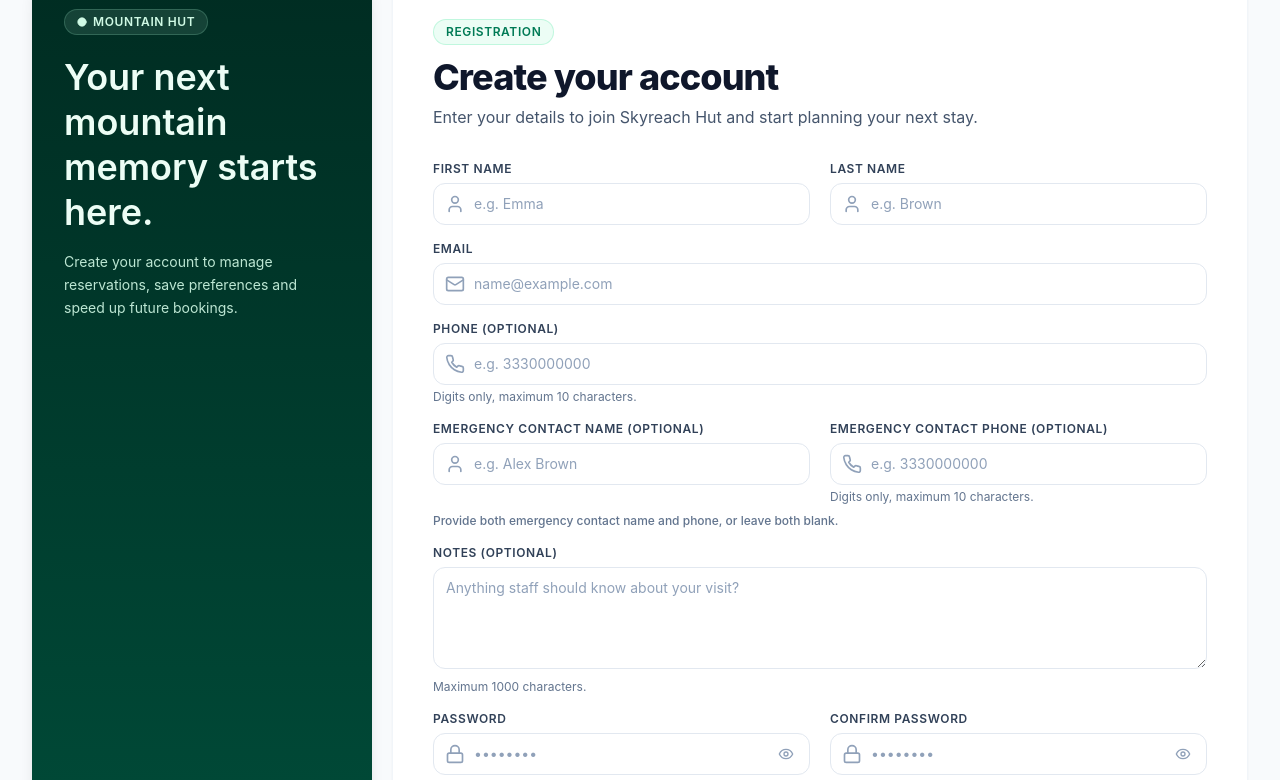
Test: RegisterPage › sends only the required fields when the optional ones are empty
Type "Anna" into the field labelled "First name" at point(622, 204), box [433, 183, 810, 225]
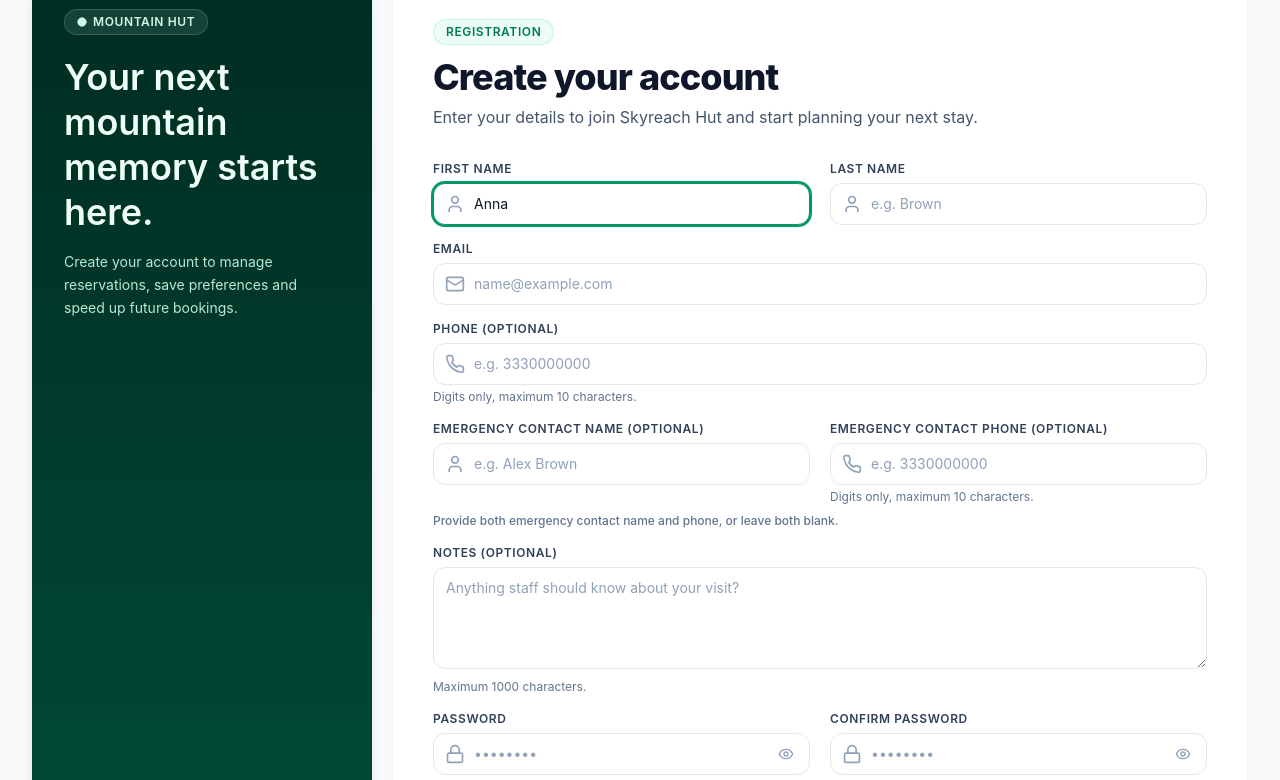
Type "Neri" into the field labelled "Last name" at point(1018, 204), box [830, 183, 1207, 225]
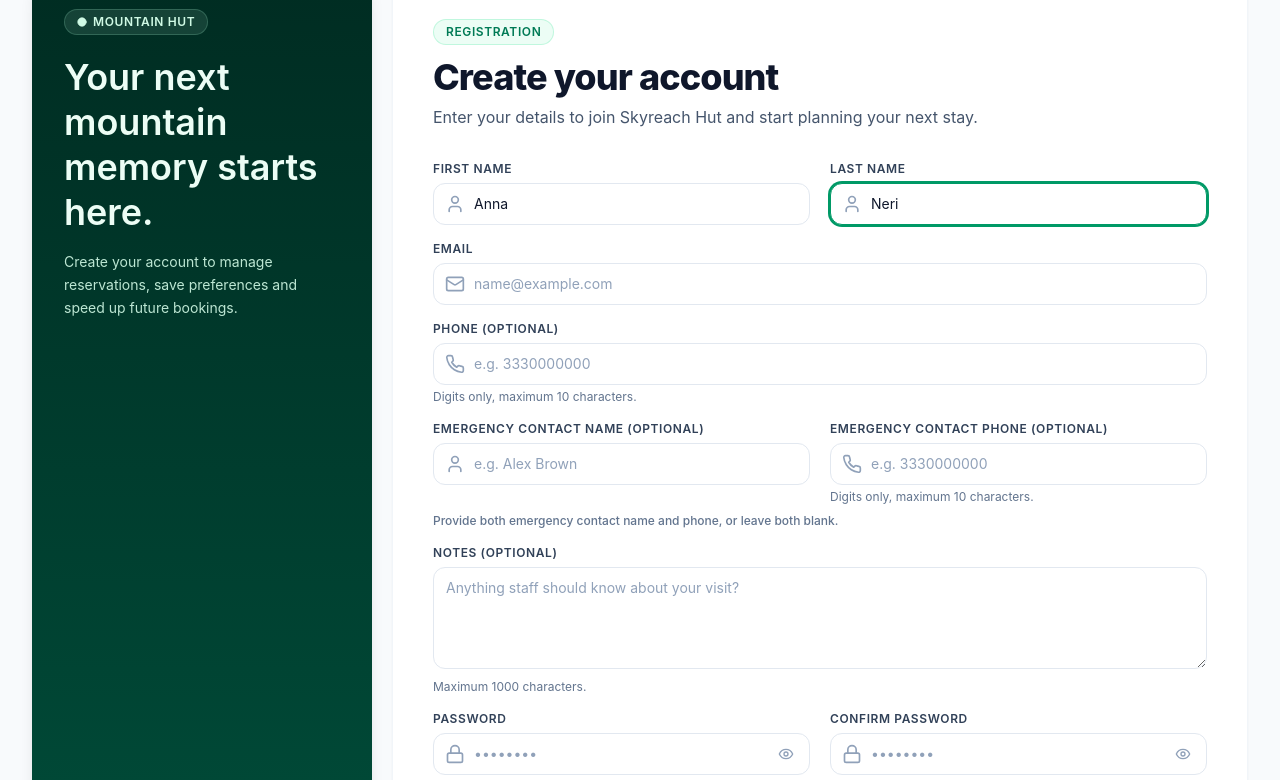
Type "anna@example.com" into the field labelled "Email" at point(820, 284), box [433, 263, 1207, 305]
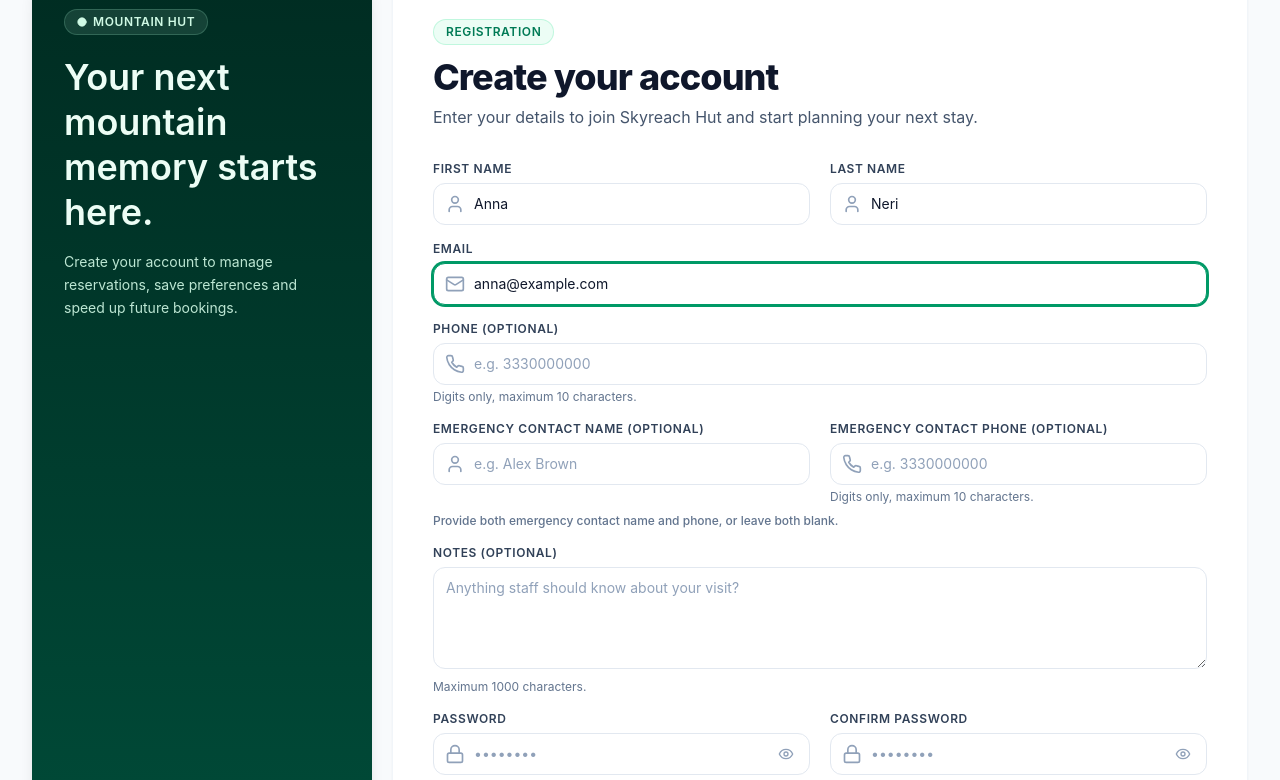
Type "Hiker123" into the password field labelled "Password" at point(622, 754), box [433, 733, 810, 775]
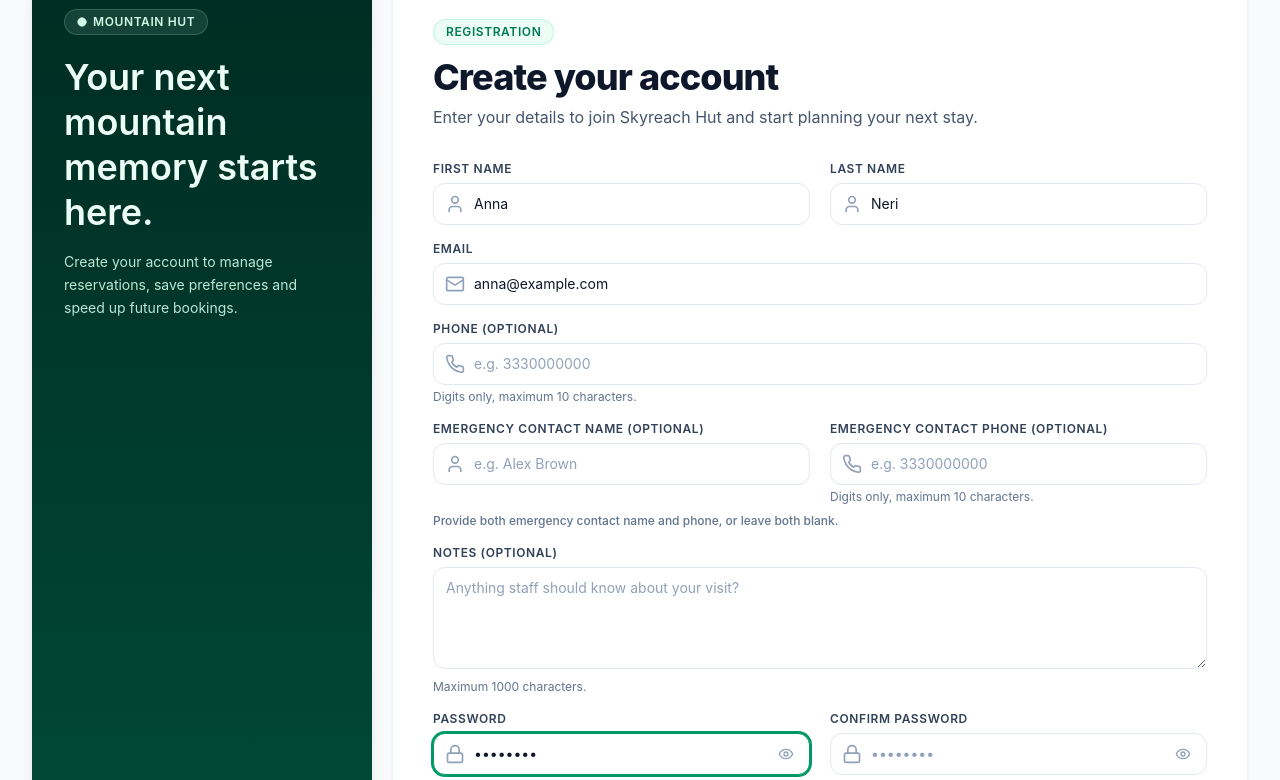
Type "Hiker123" into the password field labelled "Confirm password" at point(1018, 754), box [830, 733, 1207, 775]
(page scrolled)
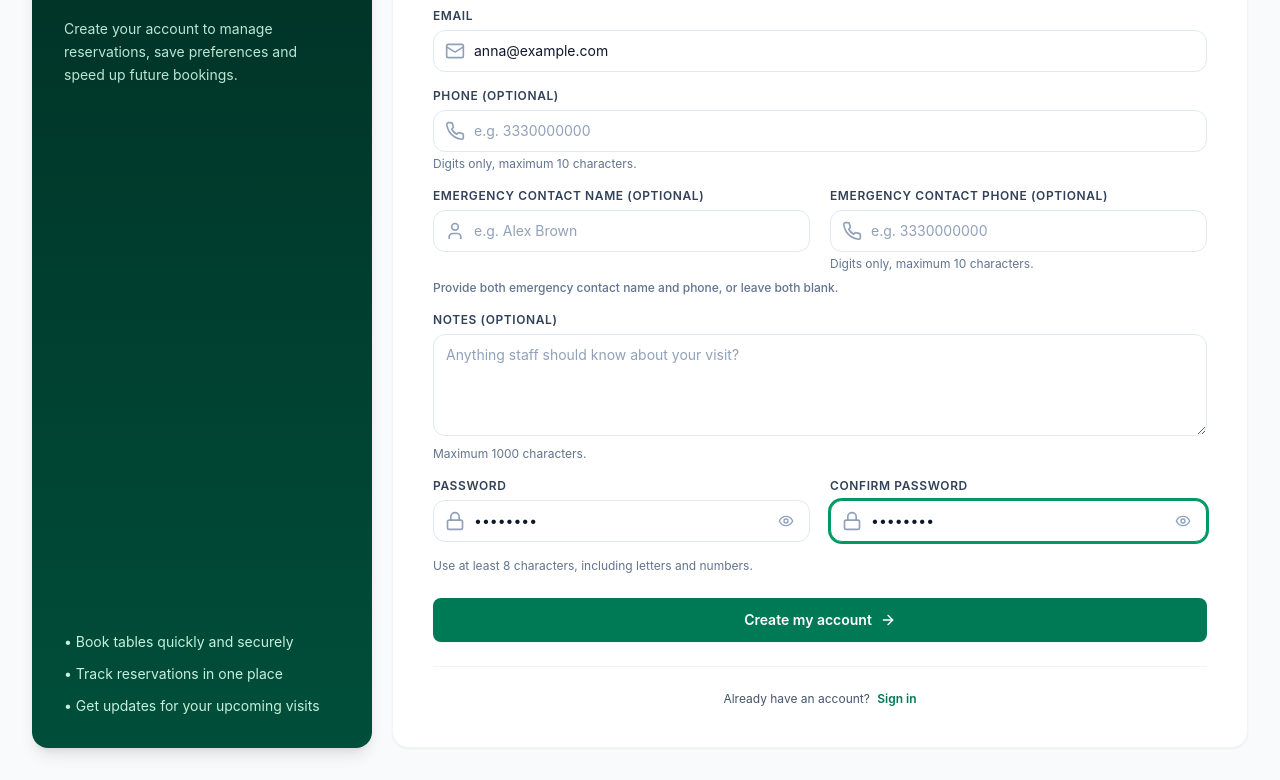
Click the button "Create my account" at point(820, 620), box [433, 598, 1207, 642]
(page scrolled)
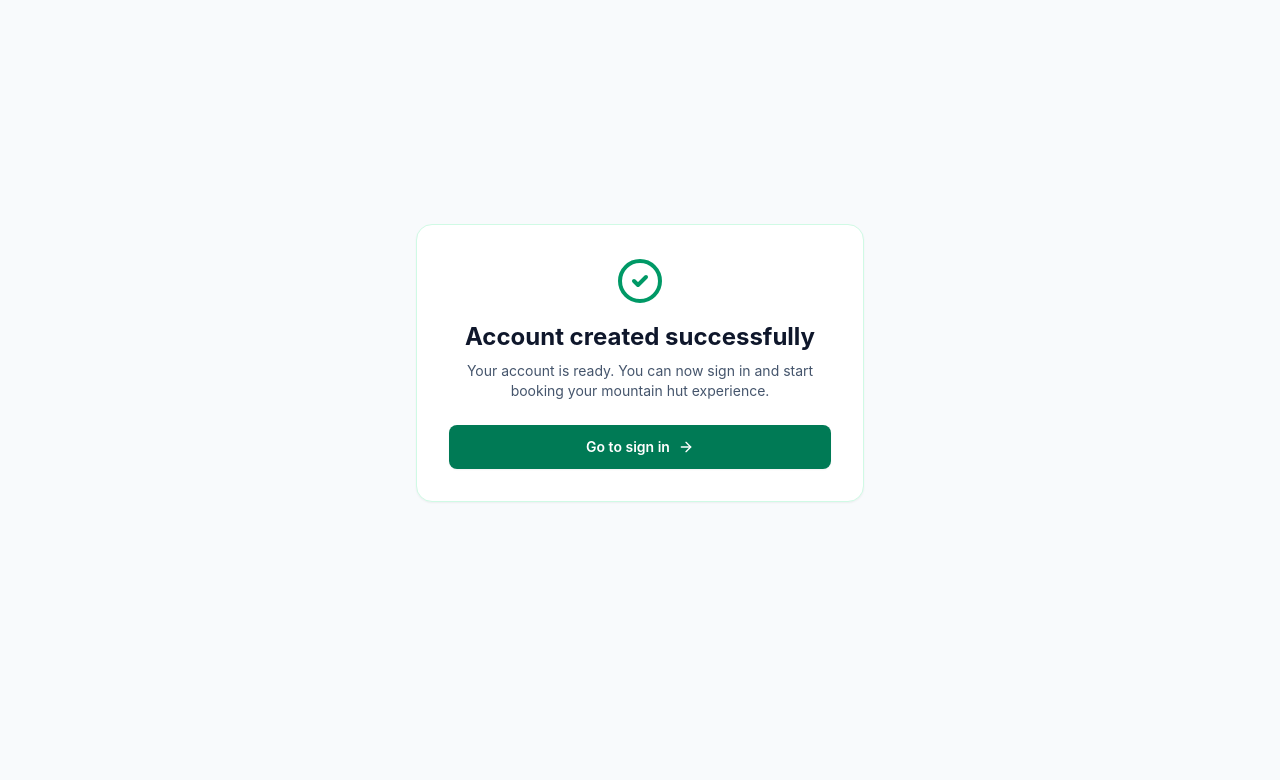
Expected: the heading "Account created successfully" is shown, [449, 320, 831, 352]
